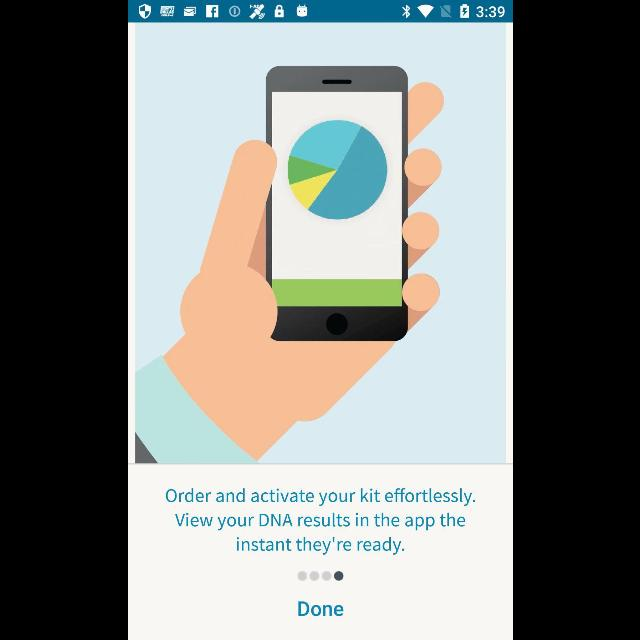image: (134, 23, 503, 463)
pageindicator: (296, 570, 344, 582)
text: (165, 488, 475, 554), (297, 601, 343, 617)
uppertaskbar: (128, 1, 512, 23)
